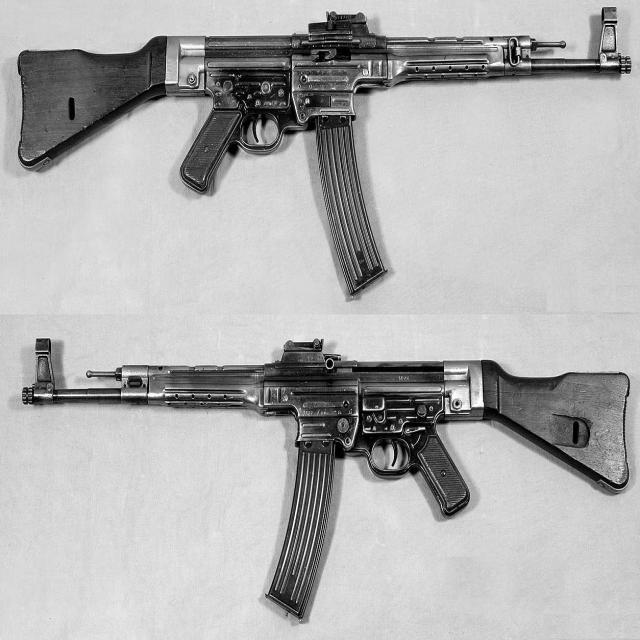Weapon: (18, 8, 631, 294), (22, 339, 628, 617)
